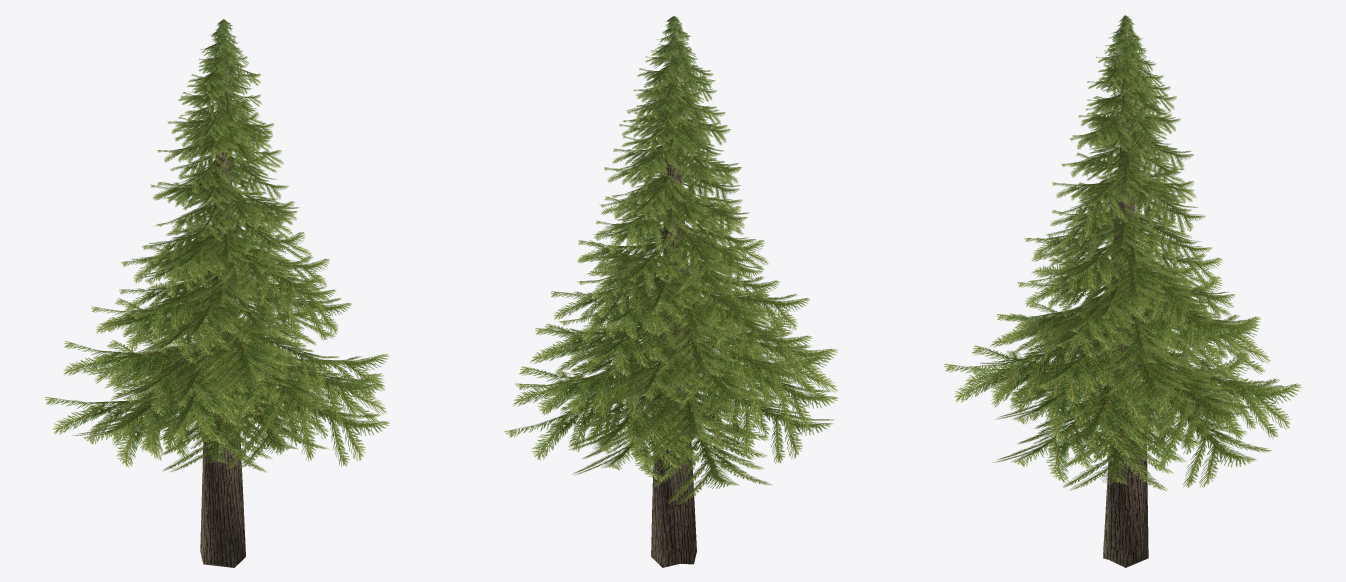
The model's file is PineTree_BEFORE_JOIN.glb.
The picture shows the model from 3 angles, left to right: view 1: azimuth 30°, elevation 25°; view 2: azimuth 150°, elevation 25°; view 3: azimuth 270°, elevation 25°; orthographic projection.
Parts seen in each view (by area): view 1: Cube; view 2: Cube; view 3: Cube.
Part boxes in pixels (x1,y1,x2,y2): Cube: [45, 19, 389, 567]; Cube: [504, 16, 838, 567]; Cube: [944, 15, 1301, 567].
Bounding box in the file's own units: 19.48 × 27.91 × 19.55.
Materials: 3 (3 with a texture image).
